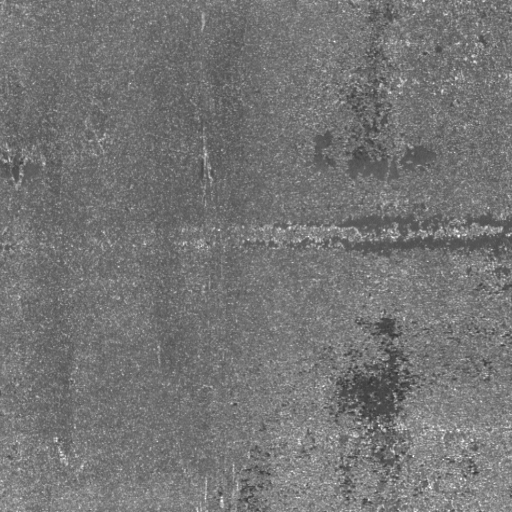hengxiangliewen: (169, 215, 509, 256)
